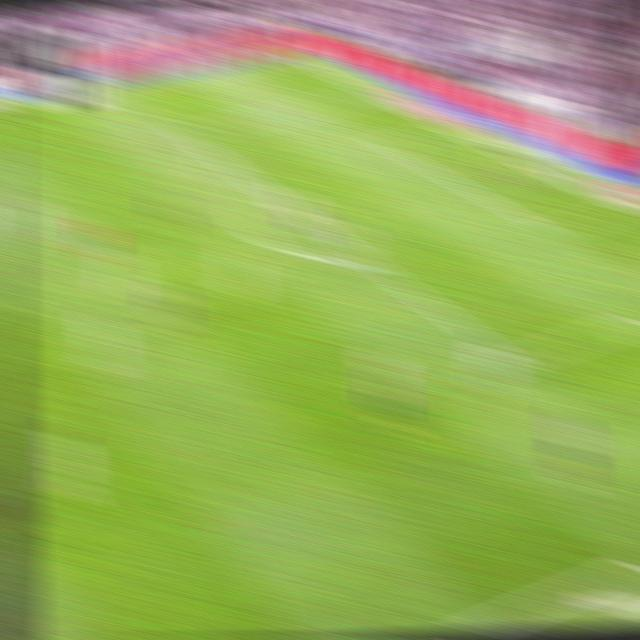bigarea_bottom_inner: (497, 344, 530, 376)
bigarea_top_inner: (172, 124, 198, 143)
bigarea_top_outter: (354, 83, 383, 101)
bottom_arc_area_intersection: (357, 252, 387, 275)
corner: (277, 47, 306, 63)
smallarea_bottom_inner: (535, 218, 565, 242)
smallarea_top_inner: (375, 137, 401, 153)
top_arc_area_intersection: (246, 174, 275, 195)
